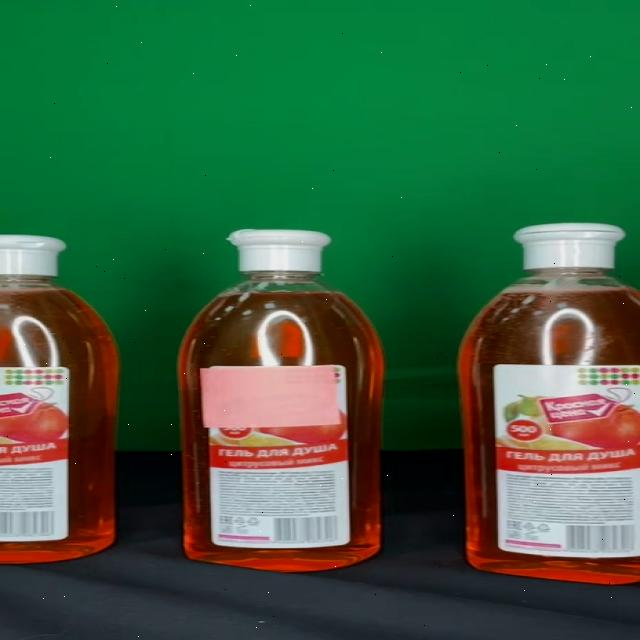Bottle: (177, 228, 384, 572), (457, 224, 640, 585)
Cap: (514, 224, 624, 267), (227, 229, 332, 272)
